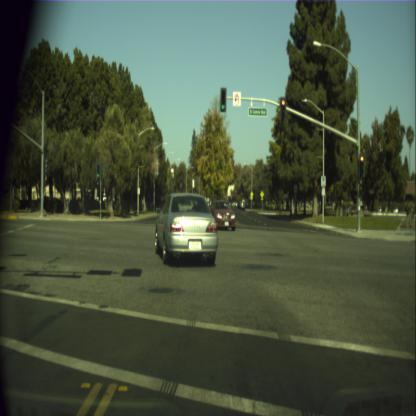GreenLeft: (220, 88, 226, 111), (96, 164, 100, 178)
Red: (280, 98, 286, 120), (359, 155, 364, 176)
